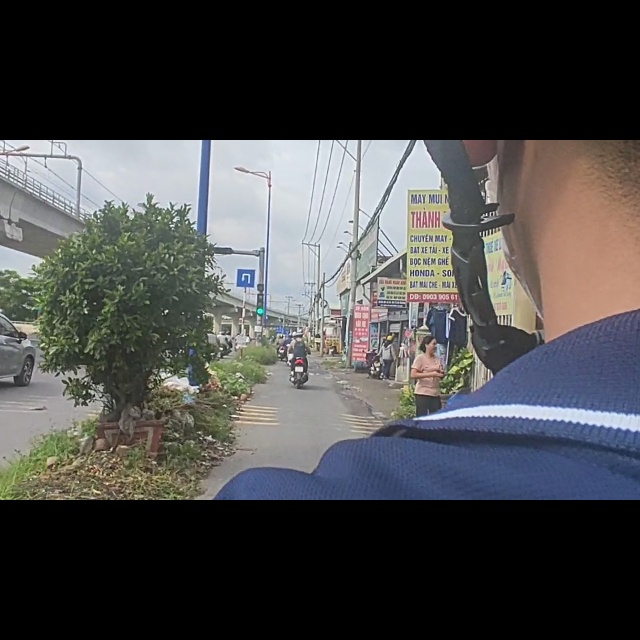bien_chi_dan: (236, 226, 257, 265)
